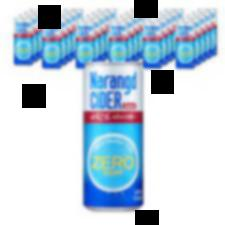narangdcider: (80, 60, 145, 213), (74, 21, 96, 69), (12, 17, 33, 66), (174, 21, 195, 70), (41, 21, 62, 70), (143, 23, 162, 73), (108, 22, 129, 63)
